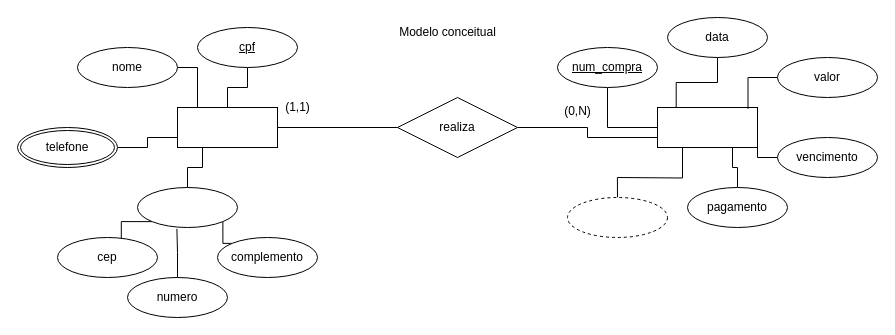
Some shapes in this 895 by 335 pixel diagram are drawn without their labels. Here are the shapes that lost their labels. From the top down, the centre of each, then its label:
At point 227,127: "Clientes".
At point 707,127: "Compras".
At point 187,207: "endereço".
At point 617,217: "status".
